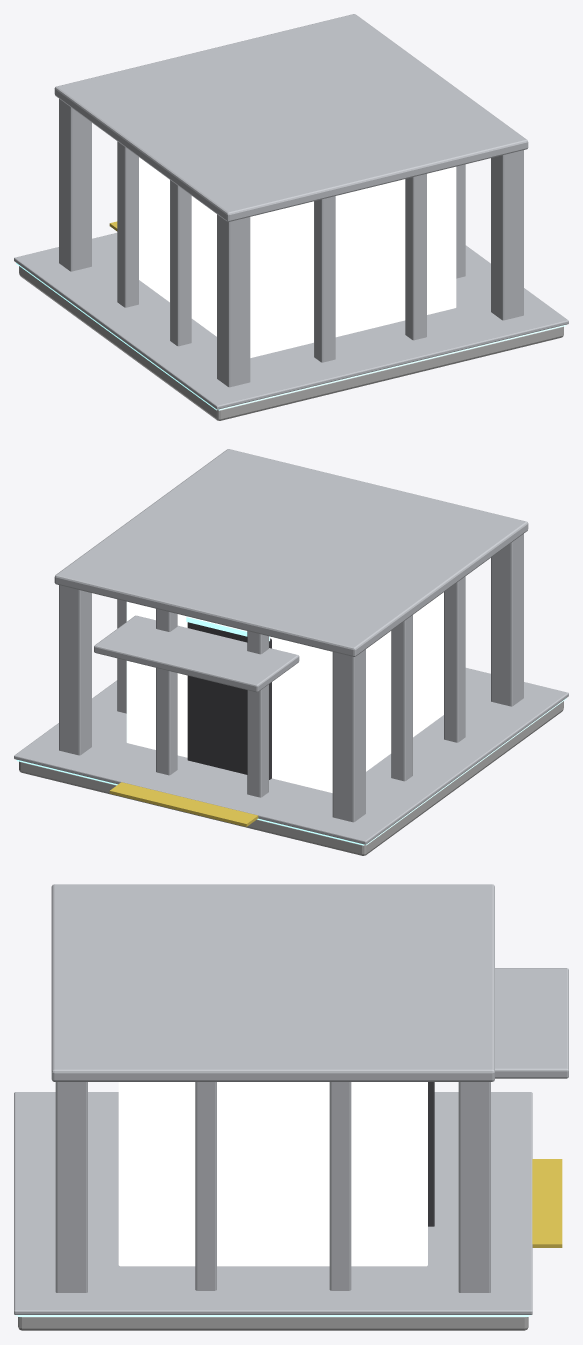
3 views of the same model, one above another, from view 1: azimuth 30°, elevation 25°; view 2: azimuth 150°, elevation 25°; view 3: azimuth 270°, elevation 25° (orthographic). The views are drawn at different scales.
Visible parts, largest first — view 1: ext_ledge_198, int_columns, ext_lobby, int_slab_edge, int_slab, ext_base_glow; view 2: ext_ledge_198, int_columns, int_slab_edge, ext_lobby, ext_canopy, ext_entrance, int_slab, ext_hazard, ext_base_glow; view 3: ext_ledge_198, ext_lobby, int_slab_edge, int_columns, ext_canopy, int_slab, ext_hazard, ext_base_glow, ext_entrance.
Part boxes in pixels (x1,y1,x2,y2): ext_ledge_198: (54, 14, 528, 221); int_columns: (59, 99, 523, 387); ext_lobby: (139, 157, 456, 357); int_slab_edge: (14, 233, 568, 409); int_slab: (19, 266, 563, 420); ext_base_glow: (16, 263, 566, 410); ext_ledge_198: (54, 449, 528, 656); int_columns: (59, 534, 523, 822); int_slab_edge: (14, 668, 568, 844); ext_lobby: (126, 592, 443, 792); ext_canopy: (94, 615, 299, 692); ext_entrance: (187, 622, 271, 779); int_slab: (19, 701, 563, 855); ext_hazard: (109, 782, 258, 826); ext_base_glow: (16, 698, 566, 845); ext_ledge_198: (51, 884, 494, 1081); ext_lobby: (118, 1082, 427, 1266); int_slab_edge: (14, 1092, 532, 1314); int_columns: (55, 1082, 490, 1292); ext_canopy: (495, 968, 568, 1078); int_slab: (18, 1317, 528, 1330); ext_hazard: (532, 1159, 562, 1247); ext_base_glow: (15, 1315, 531, 1316); ext_entrance: (428, 1082, 434, 1226).
Size of the model in its own units: 3.86 by 2.03 by 4.13.
